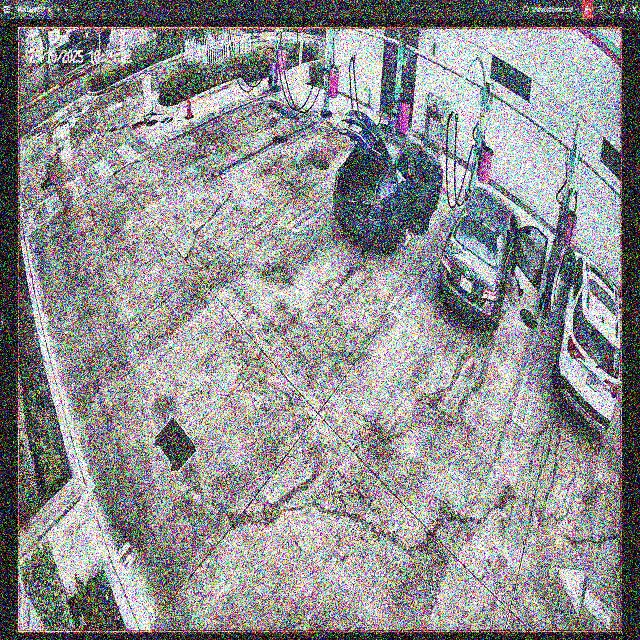Car: (333, 111, 443, 253), (438, 188, 543, 328)
